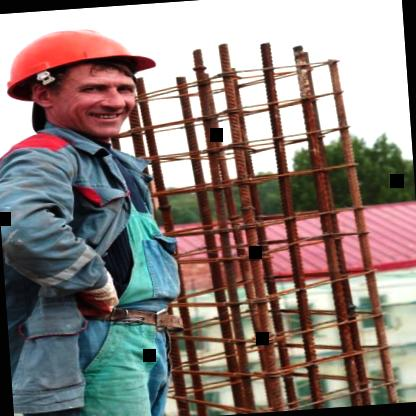helmet: (0, 7, 173, 148)
